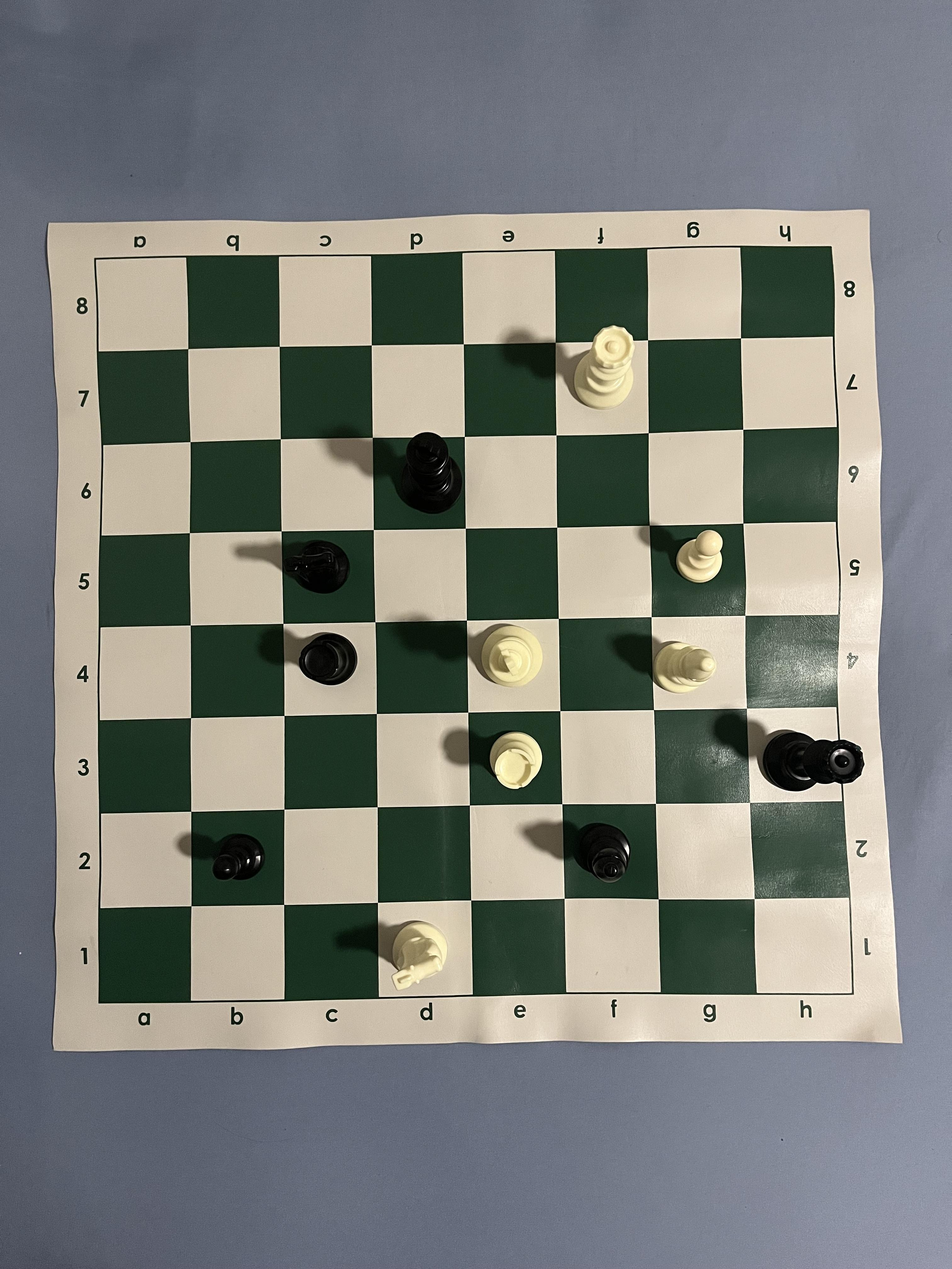black_bishop: (575, 822, 631, 885)
black_king: (397, 431, 463, 513)
black_knight: (283, 539, 351, 595)
black_pawn: (211, 833, 266, 883)
black_queen: (761, 729, 866, 793)
black_rook: (298, 631, 359, 688)
white_bishop: (653, 640, 718, 696)
white_king: (480, 624, 544, 690)
white_knight: (390, 919, 449, 993)
white_pawn: (676, 530, 724, 584)
white_queen: (573, 325, 636, 411)
white_rook: (488, 731, 544, 792)
